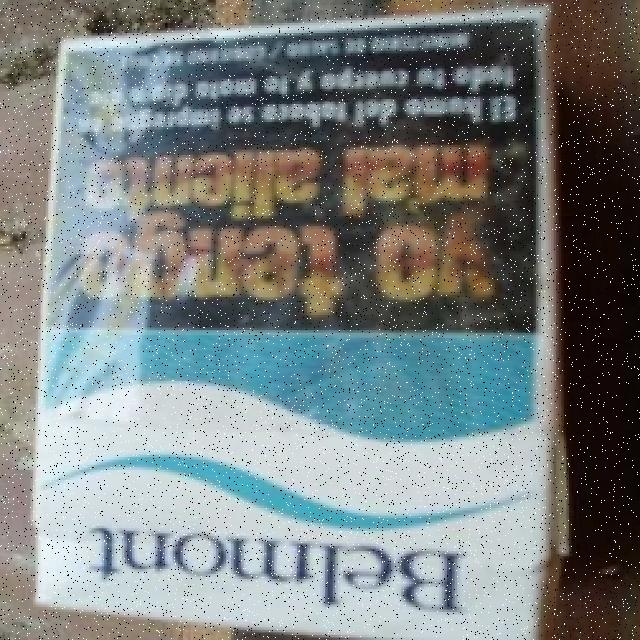box: (48, 32, 573, 624)
